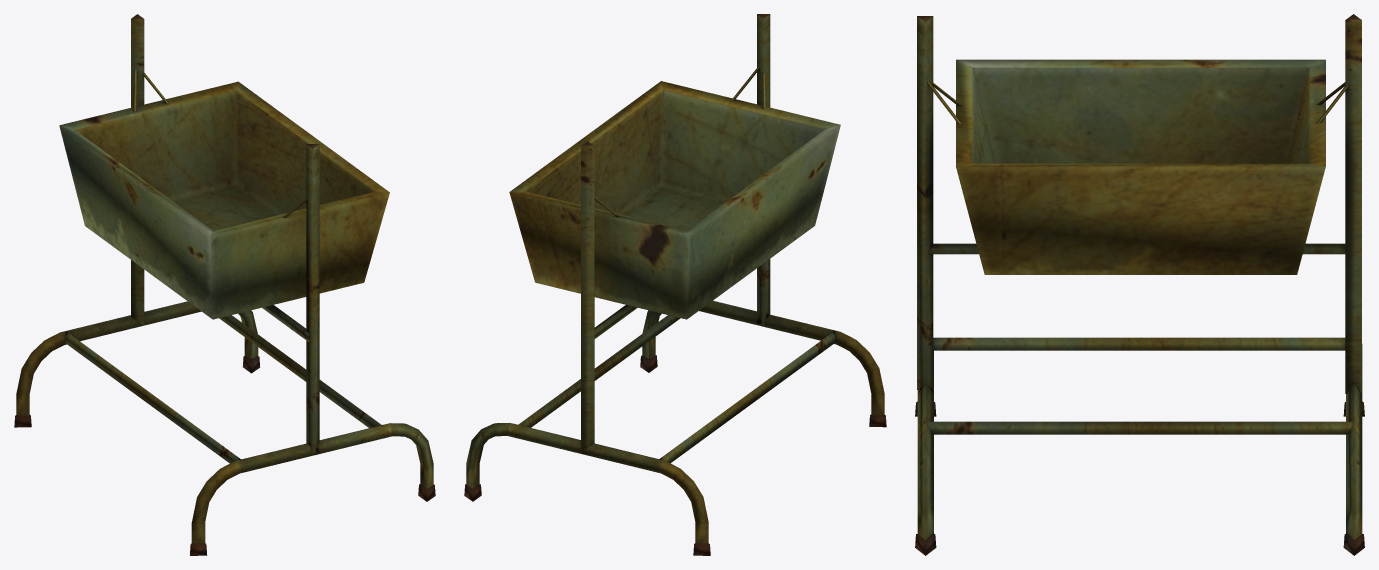
The model's file is bady_Bed.dae.
3 renders of one model, left to right at view 1: azimuth 30°, elevation 25°; view 2: azimuth 150°, elevation 25°; view 3: azimuth 270°, elevation 25°, orthographic. The views are drawn at different scales.
Visible parts, largest first — view 1: bady_Bed; view 2: bady_Bed; view 3: bady_Bed.
Part boxes in pixels (left/top/right/bottom): bady_Bed: left=14, top=14, right=435, bottom=555; bady_Bed: left=464, top=14, right=886, bottom=555; bady_Bed: left=915, top=14, right=1364, bottom=555.
Bounding box in the file's own units: 41.33 × 53.63 × 61.12.
Materials: 1 (1 with a texture image).
